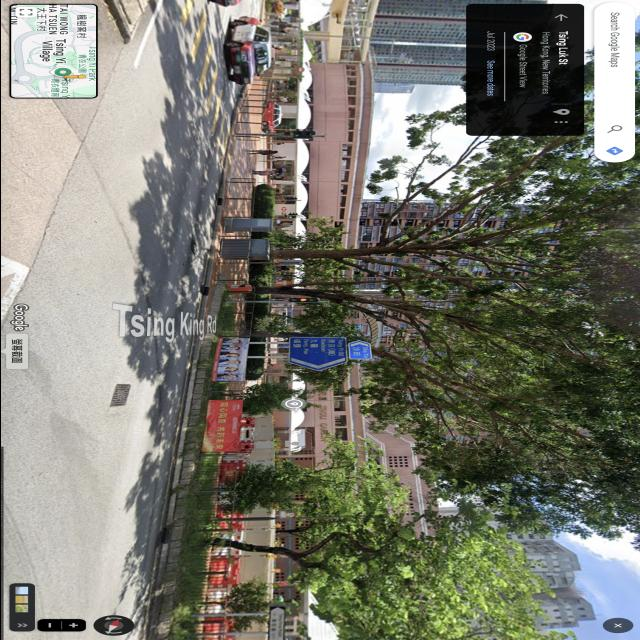Direction-Sign: (288, 337, 347, 371), (348, 341, 371, 359)
